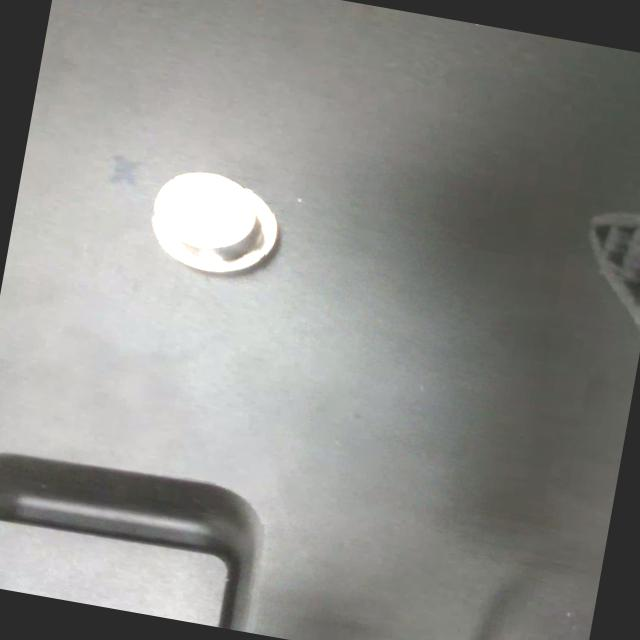sensor: (140, 162, 286, 282)
